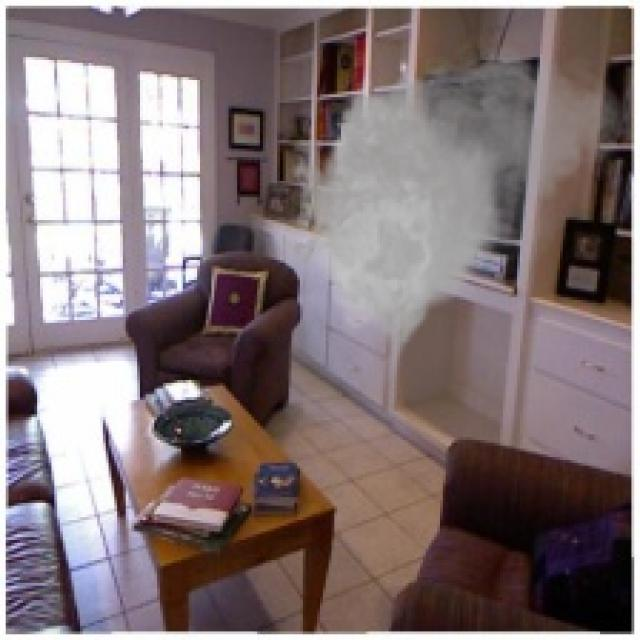smoke: (268, 37, 628, 389)
